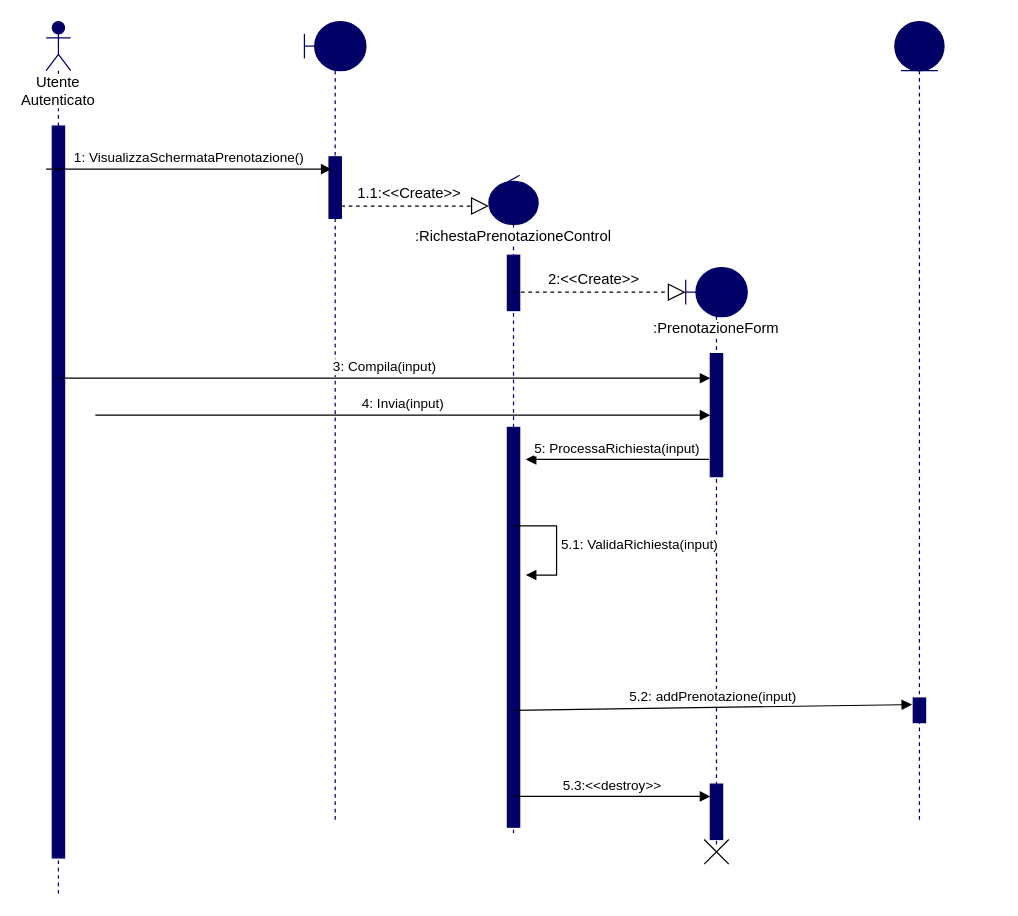
This 1018x916 diagram has some shape labels left out. Each missing label, with the box of its shape:
:PrenotazioniRepository: (894, 20, 944, 821)
:RichiestaPrenotazioneView: (303, 20, 366, 821)
